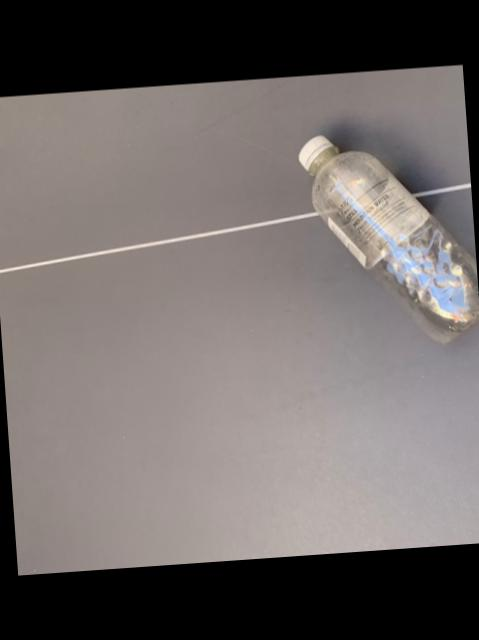plastic: (296, 137, 479, 344)
